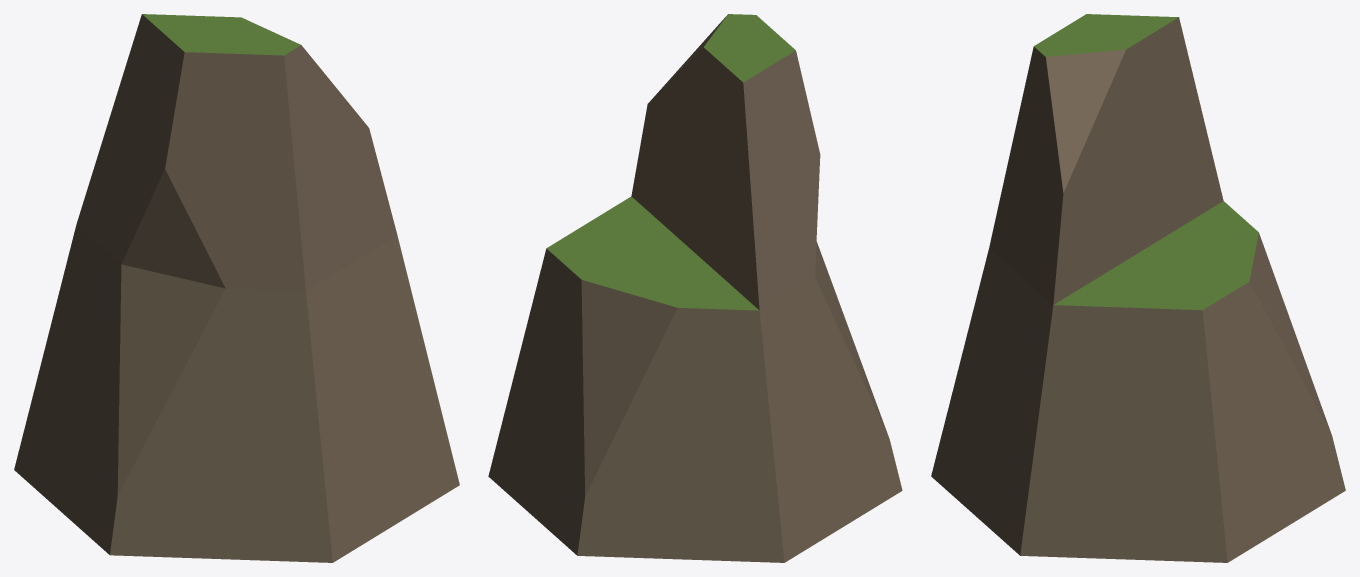
The model's file is kenney_rock_tall_j.glb.
3 renders of one model, left to right at view 1: azimuth 30°, elevation 25°; view 2: azimuth 150°, elevation 25°; view 3: azimuth 270°, elevation 25°, orthographic. The views are drawn at different scales.
Visible parts, largest first — view 1: stone, plaster; view 2: stone, plaster; view 3: stone, plaster.
Boxes of the visible parts, x1,y1,x2,y2 form: stone: (14, 14, 459, 562); plaster: (142, 14, 300, 55); stone: (488, 16, 902, 562); plaster: (546, 14, 795, 310); stone: (931, 17, 1345, 562); plaster: (1034, 14, 1258, 310).
Bounding box in the file's own units: 0.4879 × 0.62 × 0.5382.
